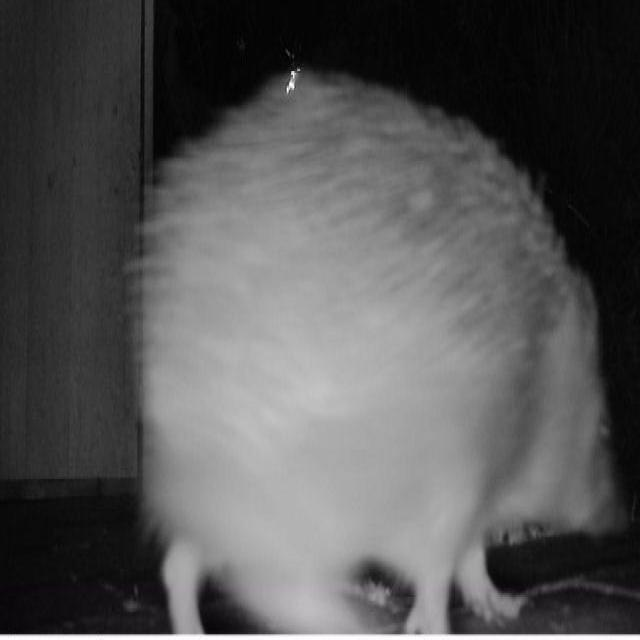Hedgehog: (134, 67, 608, 640)
